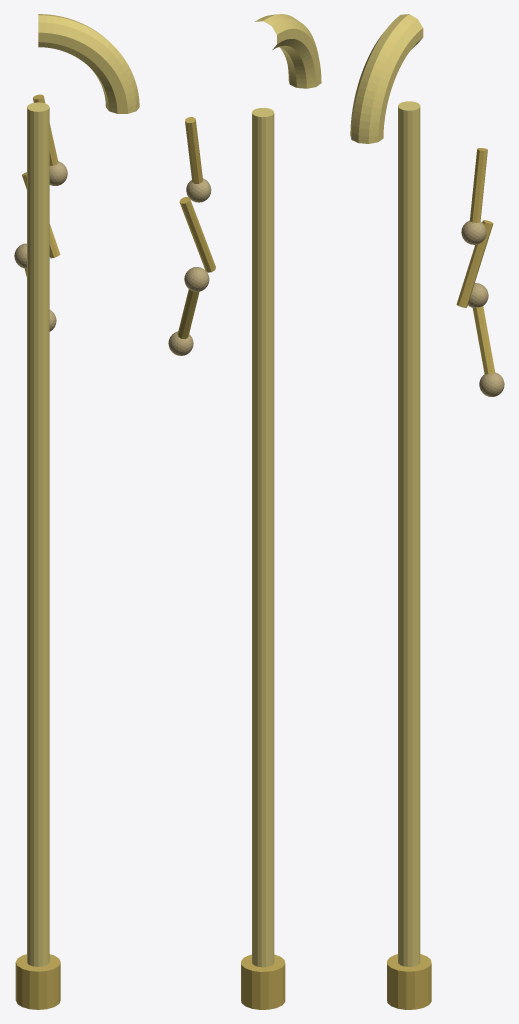
The model's file is pharaoh_staff.glb.
3 renders of one model, left to right at view 1: azimuth 90°, elevation 25°; view 2: azimuth 150°, elevation 25°; view 3: azimuth 330°, elevation 25°, orthographic.
Visible parts, largest first — view 1: shaft, crook, base, bead_0, chain_0; view 2: shaft, crook, base, chain_1, chain_0, chain_2, bead_1, bead_0, bead_2; view 3: shaft, crook, base, chain_1, chain_0, chain_2, bead_2, bead_0, bead_1.
Part boxes in pixels (x1,y1,x2,y2): shaft: [27, 102, 49, 966]; crook: [38, 14, 139, 113]; base: [15, 954, 60, 1009]; bead_0: [49, 161, 67, 185]; chain_0: [33, 94, 58, 165]; shaft: [252, 107, 274, 967]; crook: [255, 14, 321, 88]; base: [241, 954, 285, 1009]; chain_1: [179, 197, 215, 272]; chain_0: [185, 117, 202, 183]; chain_2: [177, 289, 199, 339]; bead_1: [184, 267, 209, 291]; bead_0: [186, 178, 211, 202]; bead_2: [168, 331, 193, 355]; shaft: [398, 101, 420, 966]; crook: [350, 14, 423, 143]; base: [387, 954, 431, 1009]; chain_1: [456, 220, 493, 307]; chain_0: [470, 148, 487, 222]; chain_2: [472, 306, 495, 374]; bead_2: [479, 372, 504, 396]; bead_0: [461, 220, 486, 244]; bead_1: [468, 283, 488, 307].
Size of the model in its own units: 0.475 by 3.86 by 0.445.
